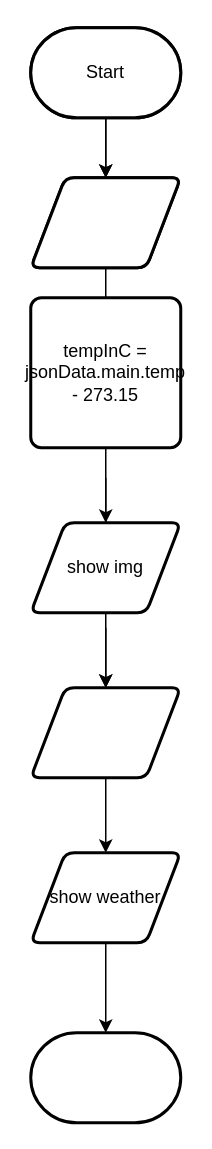
Image size: 212x1149. Some labels were removed from this diagram. The shapes that lost their labels are listed below. From the top down, each one's box as (x1, y1, x2, y2) in pixels, then its label:
(28, 176, 182, 268): get JSONdate
(28, 686, 182, 778): show tempInC
(28, 1030, 182, 1124): stop
